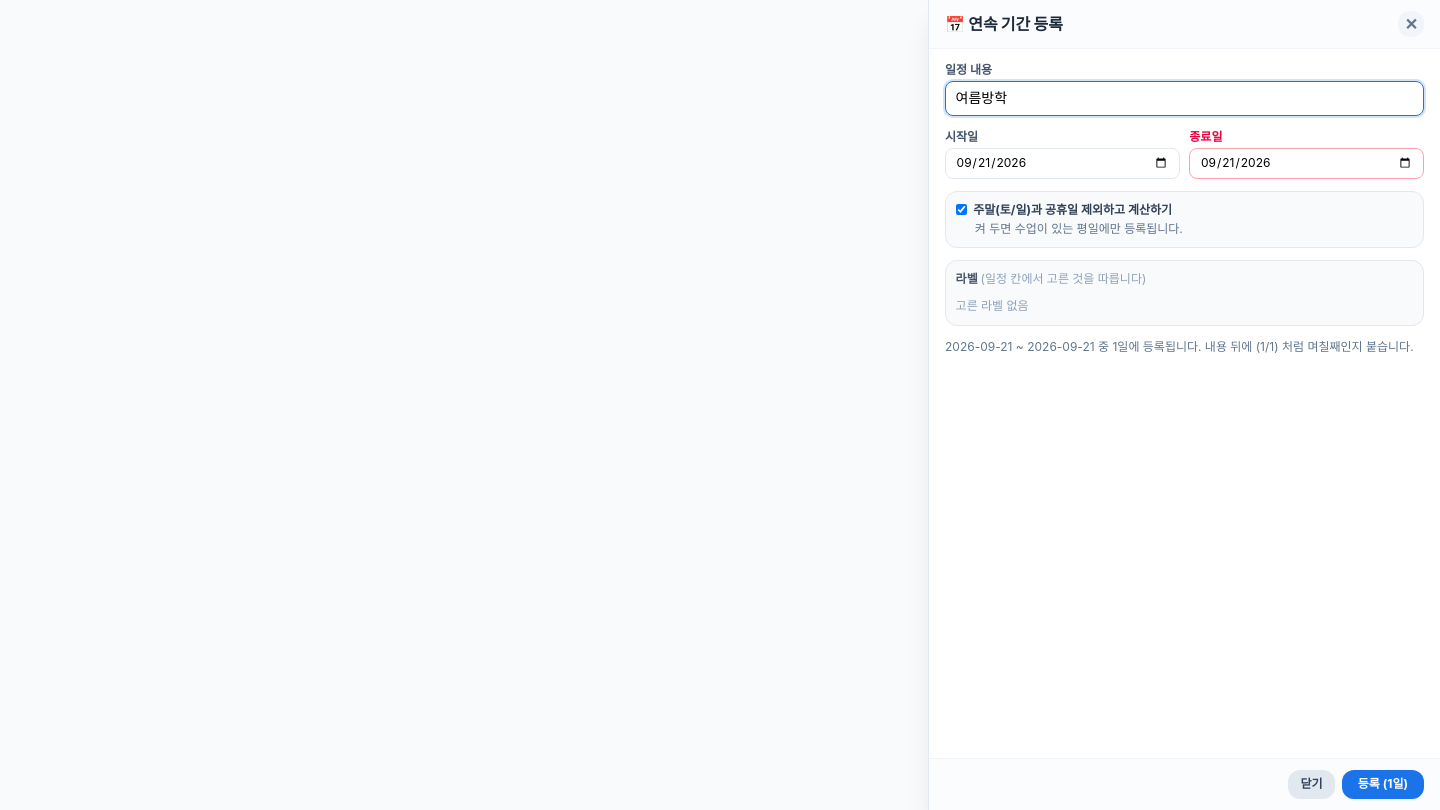
Test: PeriodModal - 기간 설정 › 주말을 뺀 날짜 수가 등록 버튼에 나온다
Note: 월~일 7일 중 토·일을 빼면 평일 5일
In the date field labelled "종료일": (1307, 163) [1189,148,1424,178], type "2026-09-27"
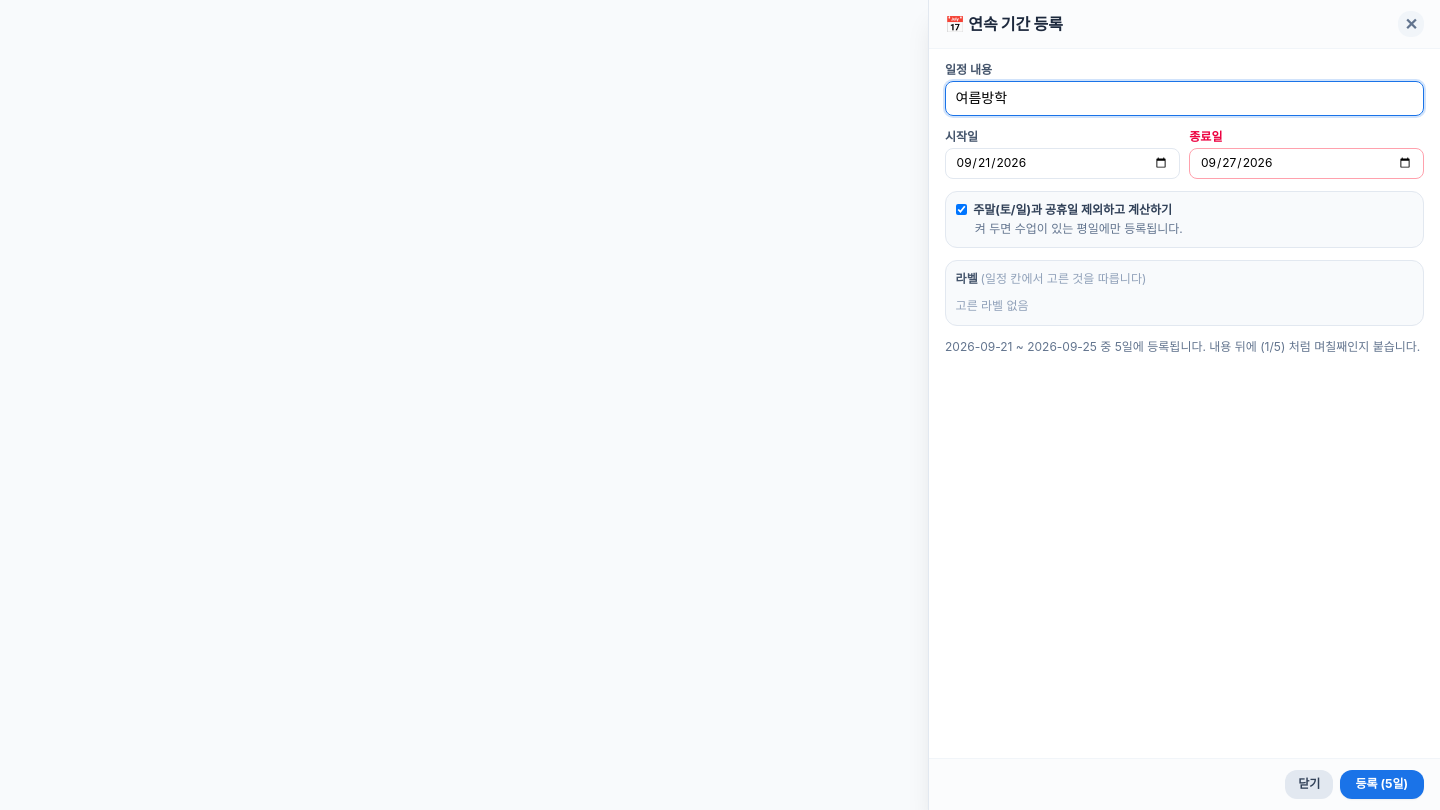
expect the button "등록 (5일)" is shown: met, box [1340,770,1424,799]
